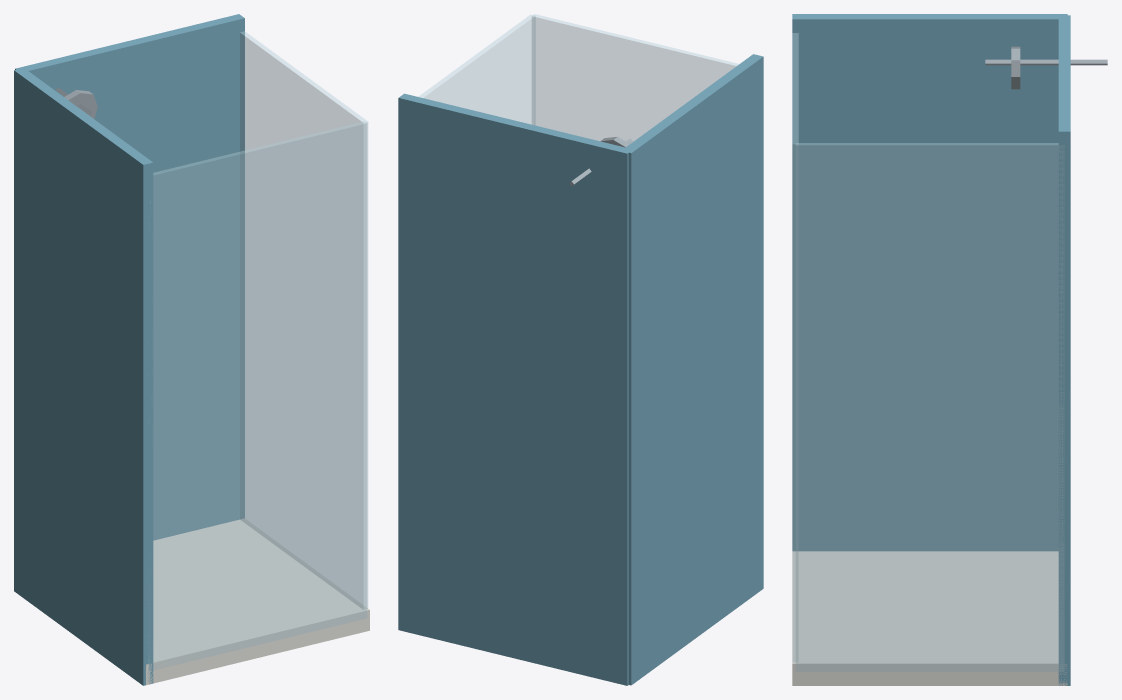
The model's file is GH_Shower_01.glb.
3 renders of one model, left to right at view 1: azimuth 30°, elevation 25°; view 2: azimuth 150°, elevation 25°; view 3: azimuth 270°, elevation 25°, orthographic. The views are drawn at different scales.
Parts seen in each view (by area): view 1: GH_Shower_01; view 2: GH_Shower_01; view 3: GH_Shower_01.
Boxes of the visible parts, <box> form: GH_Shower_01: <box>14,14,369,685</box>; GH_Shower_01: <box>398,14,763,685</box>; GH_Shower_01: <box>792,14,1107,685</box>.
Size of the model in its own units: 0.91 by 2 by 1.03.
Materials: 2 (2 with a texture image).
